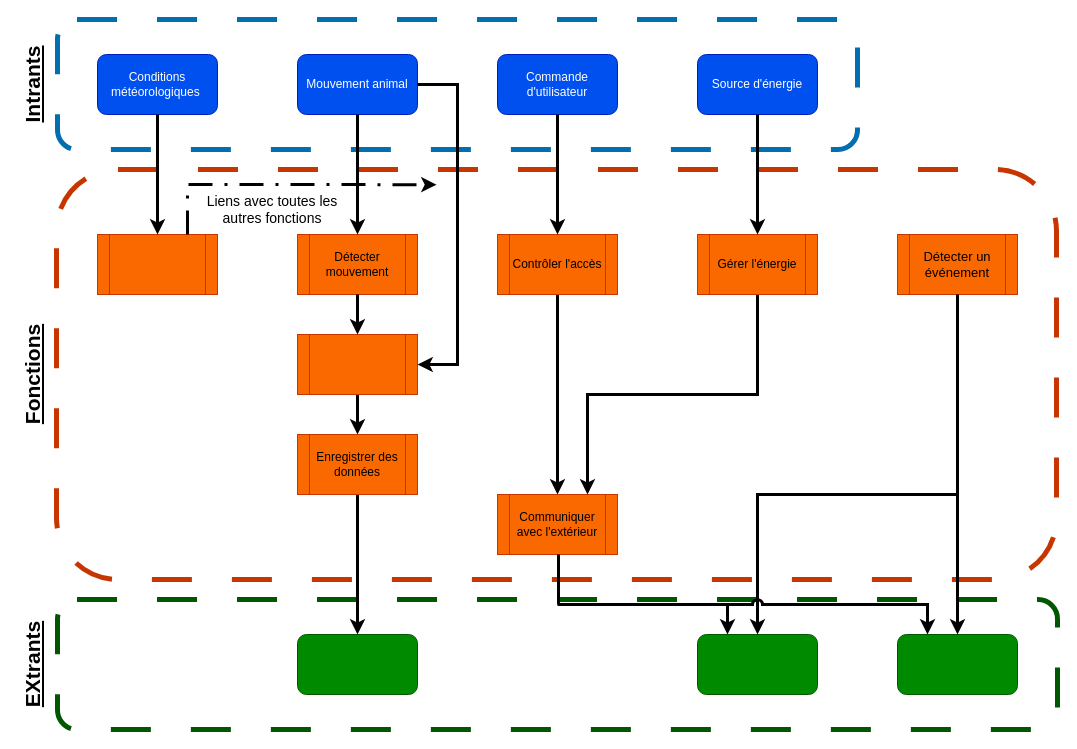
Image size: 1077x749. Some labels were removed from this diagram. The box of each missing label's shape, as (x1, y1, x2, y2) in pixels:
Alertes: (696, 634, 818, 694)
Capturer une Vidéo: (296, 334, 418, 394)
Données (Images): (296, 634, 418, 694)
Résister aux conditions: (96, 234, 218, 294)
État du système: (896, 634, 1018, 694)
